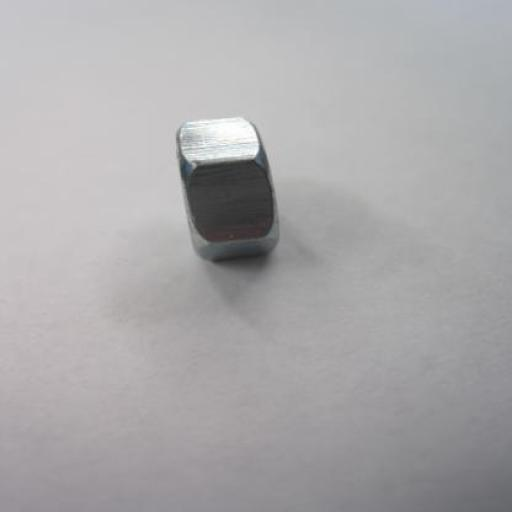Nut: (176, 117, 280, 262)
